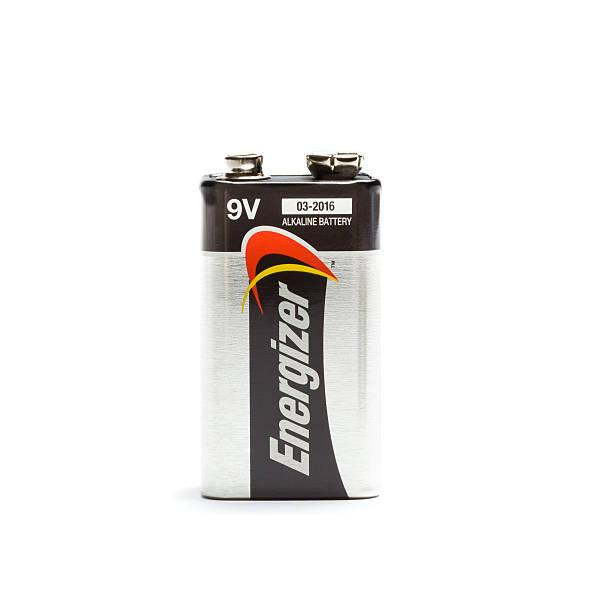9V Battery: (200, 152, 383, 503)
